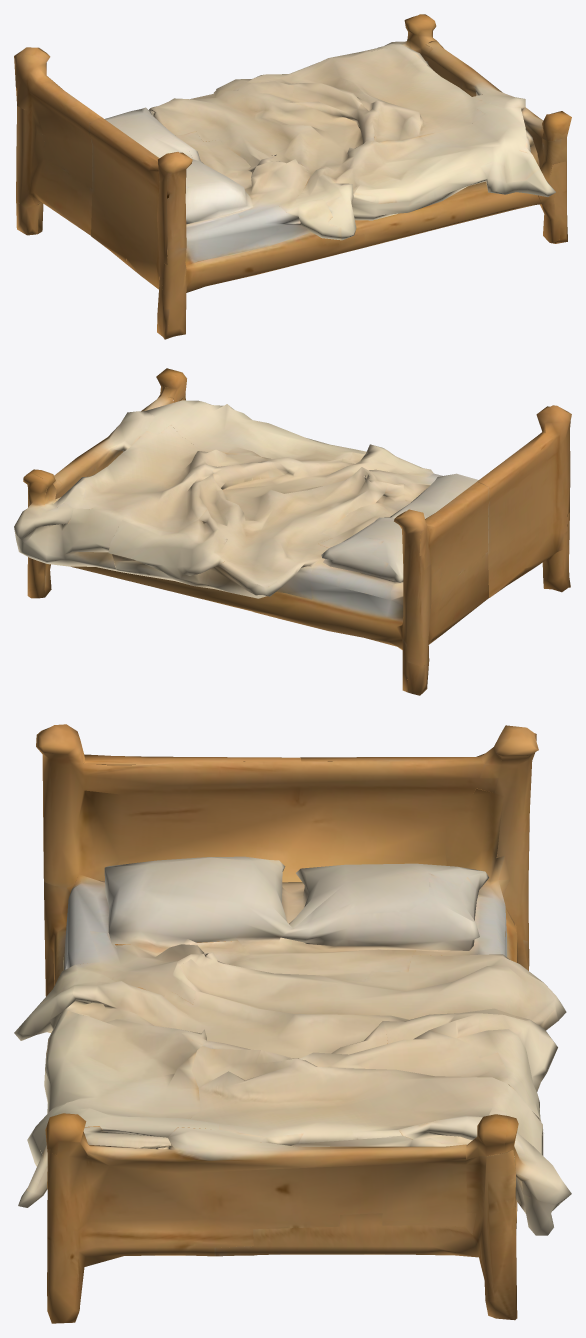
File: bed.glb
3 renders of one model, top to bottom at view 1: azimuth 30°, elevation 25°; view 2: azimuth 150°, elevation 25°; view 3: azimuth 270°, elevation 25°, orthographic. The views are drawn at different scales.
Parts seen in each view (by area): view 1: bed; view 2: bed; view 3: bed.
Boxes of the visible parts, box(x1,y1,x2,y2) form: bed: box(14, 14, 571, 339); bed: box(14, 368, 571, 695); bed: box(14, 724, 571, 1323).
Bounding box in the file's own units: 2.1 × 0.8999 × 1.55.
1 material, 1 textured.
